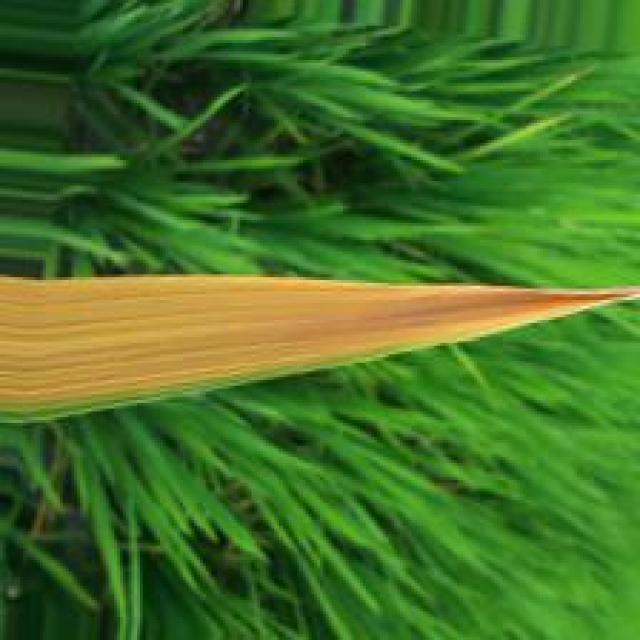Rice False Smut: (2, 277, 628, 401)
